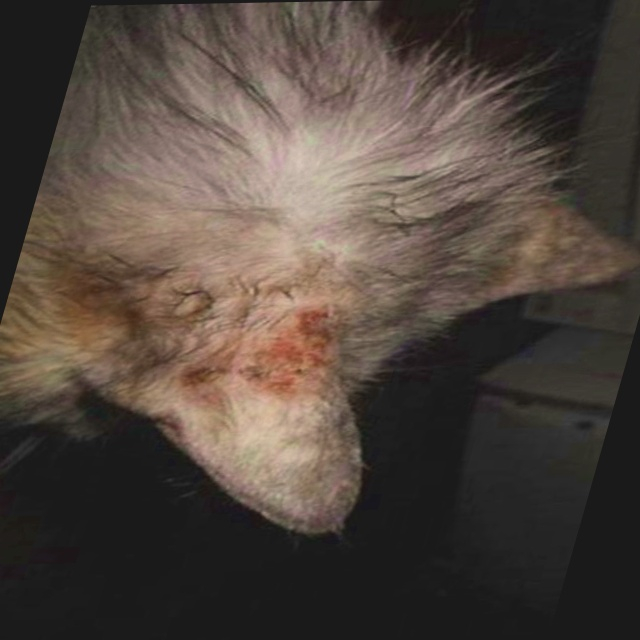ringworm: (175, 301, 346, 396)
